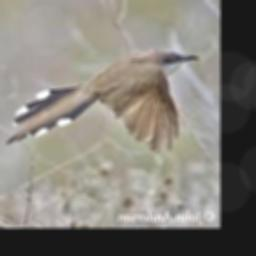Cuckoo: (6, 48, 200, 152)
